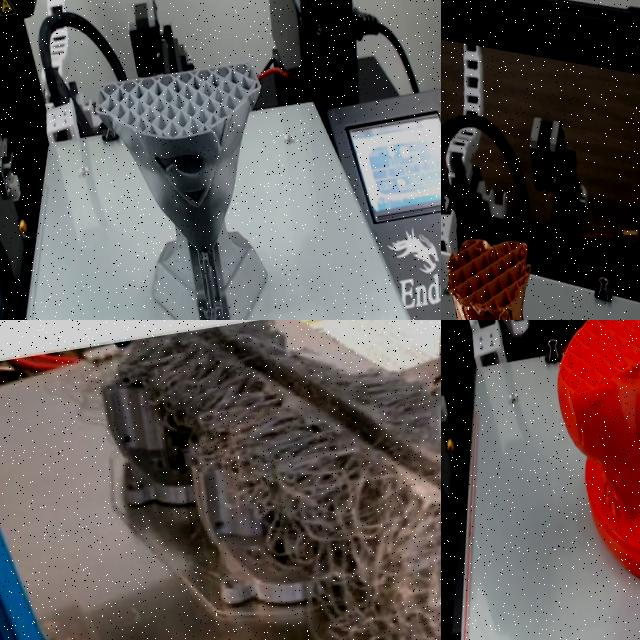spaghetti: (101, 320, 441, 640)
